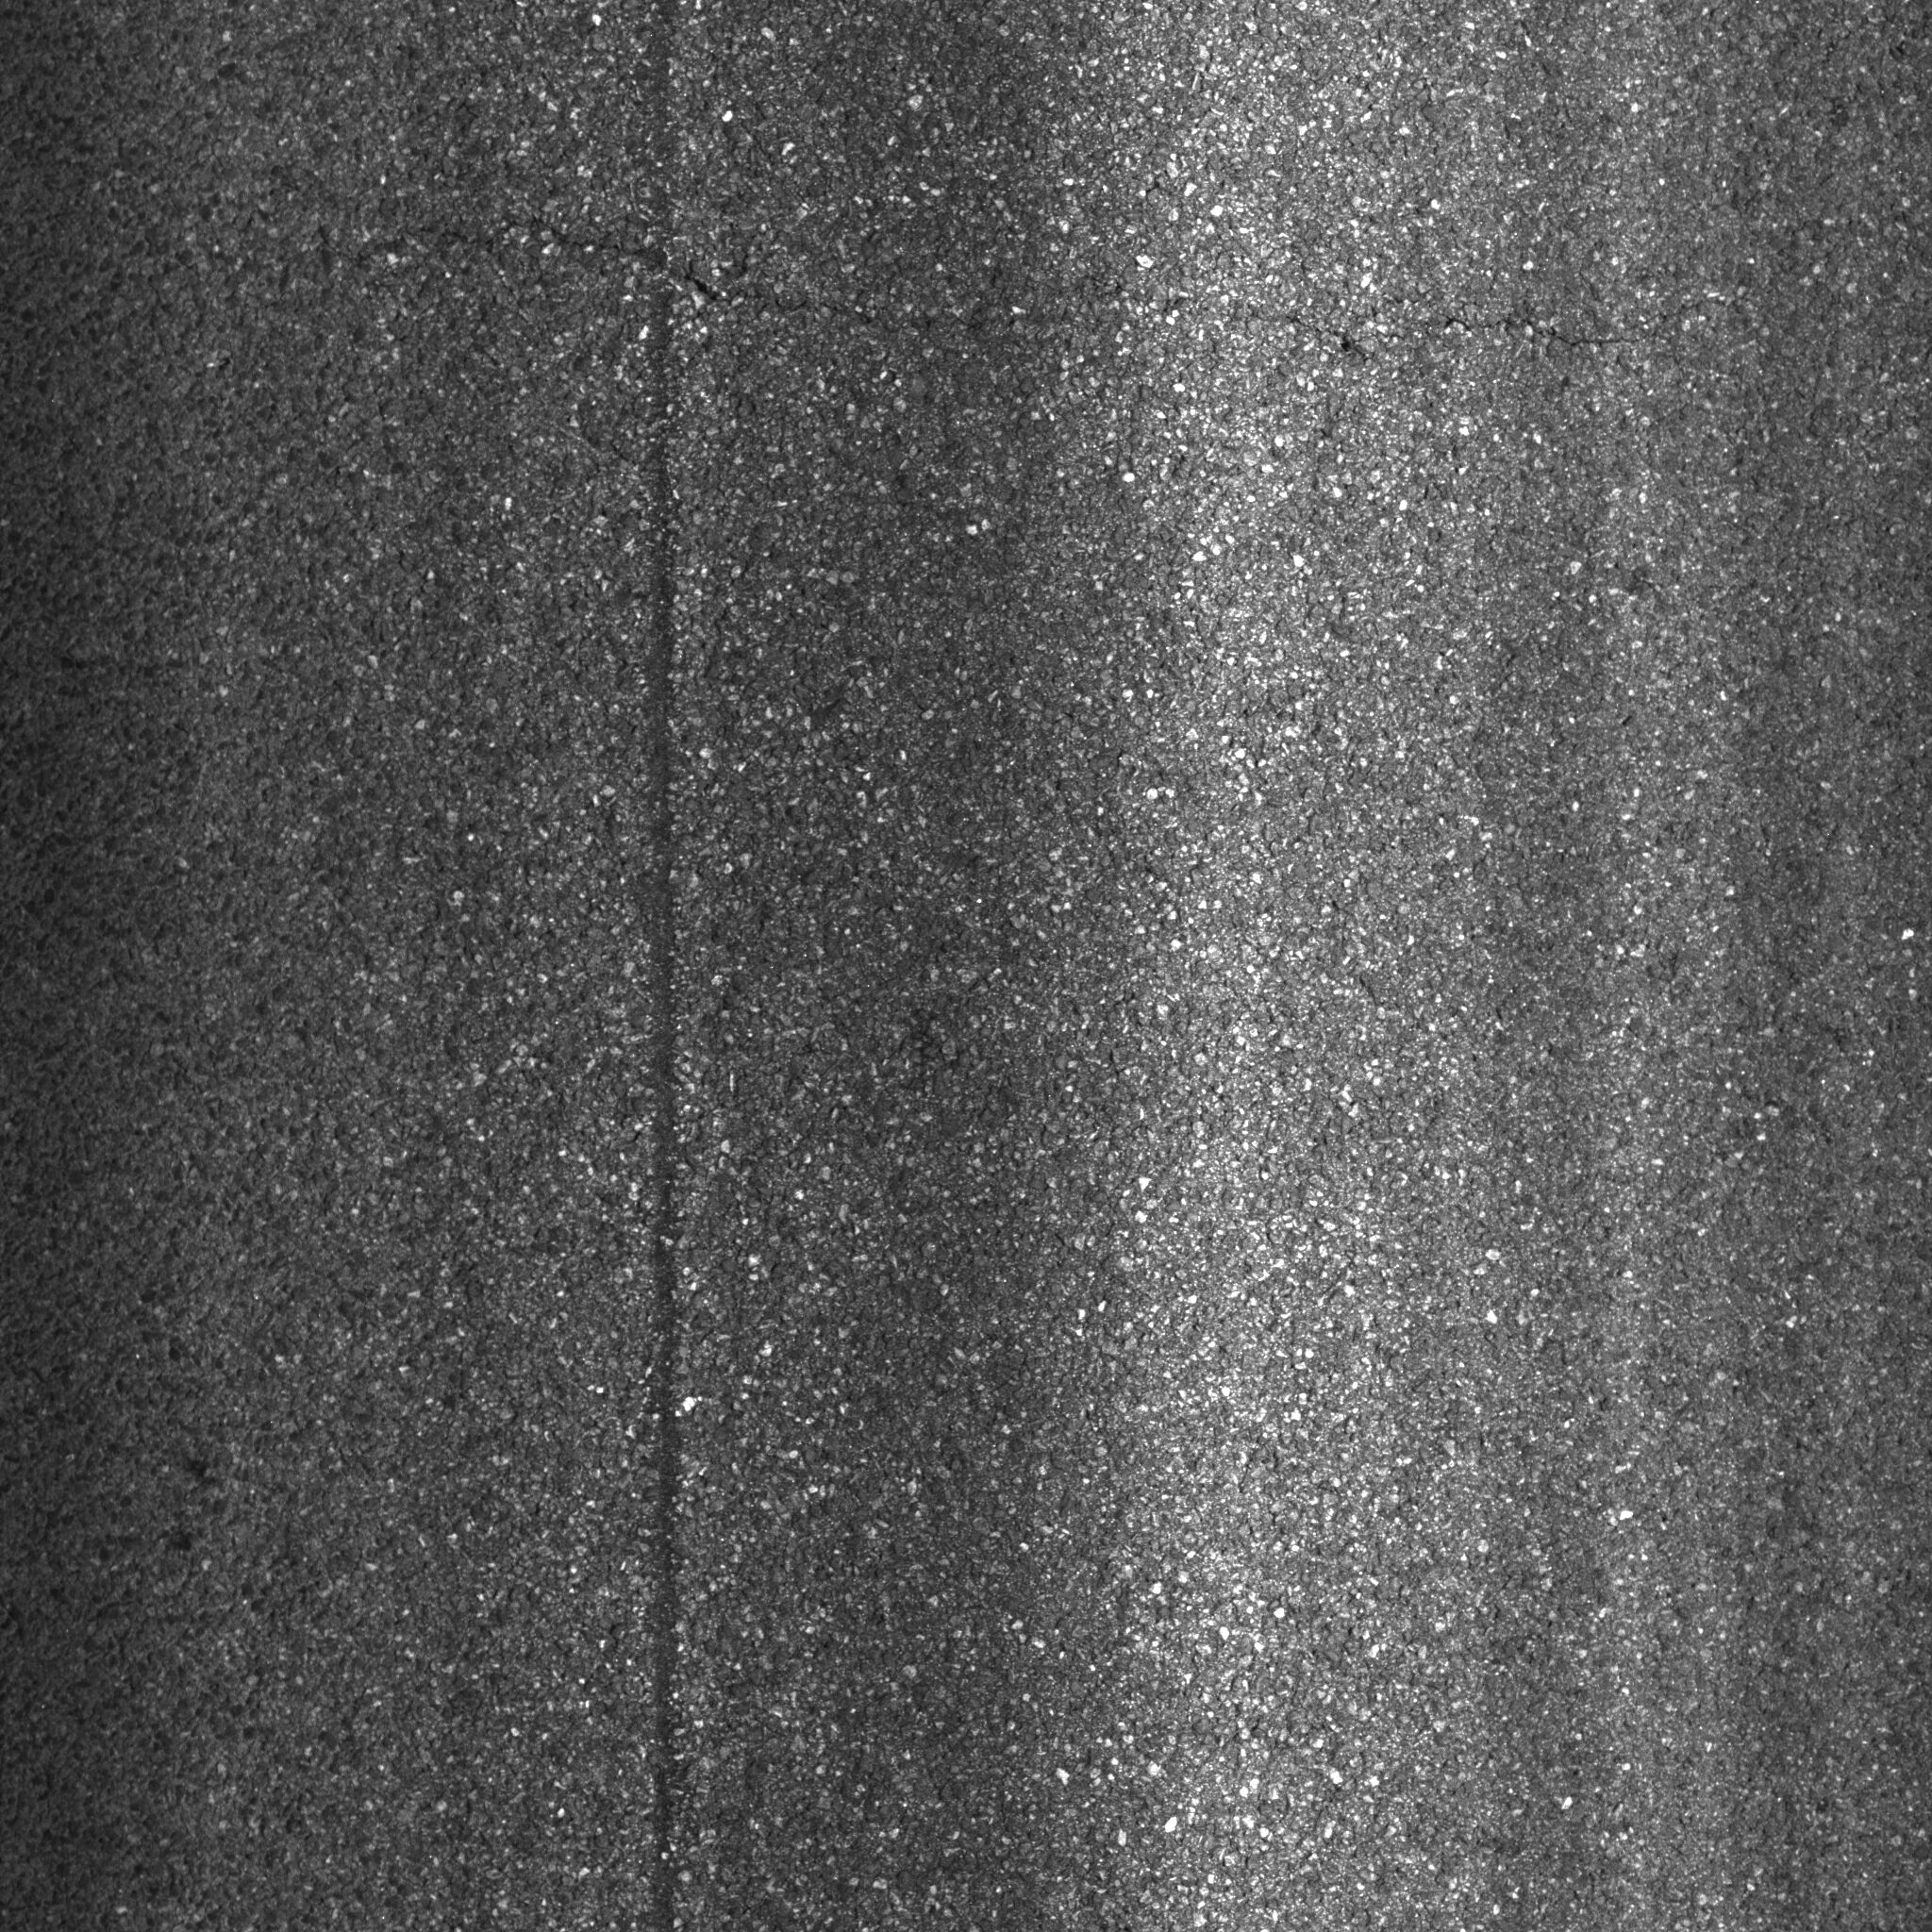transverse: (58, 126, 1713, 379)
